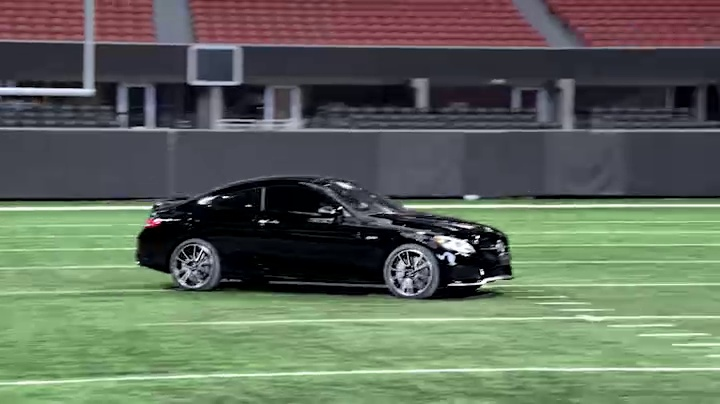amg: (133, 172, 515, 295)
